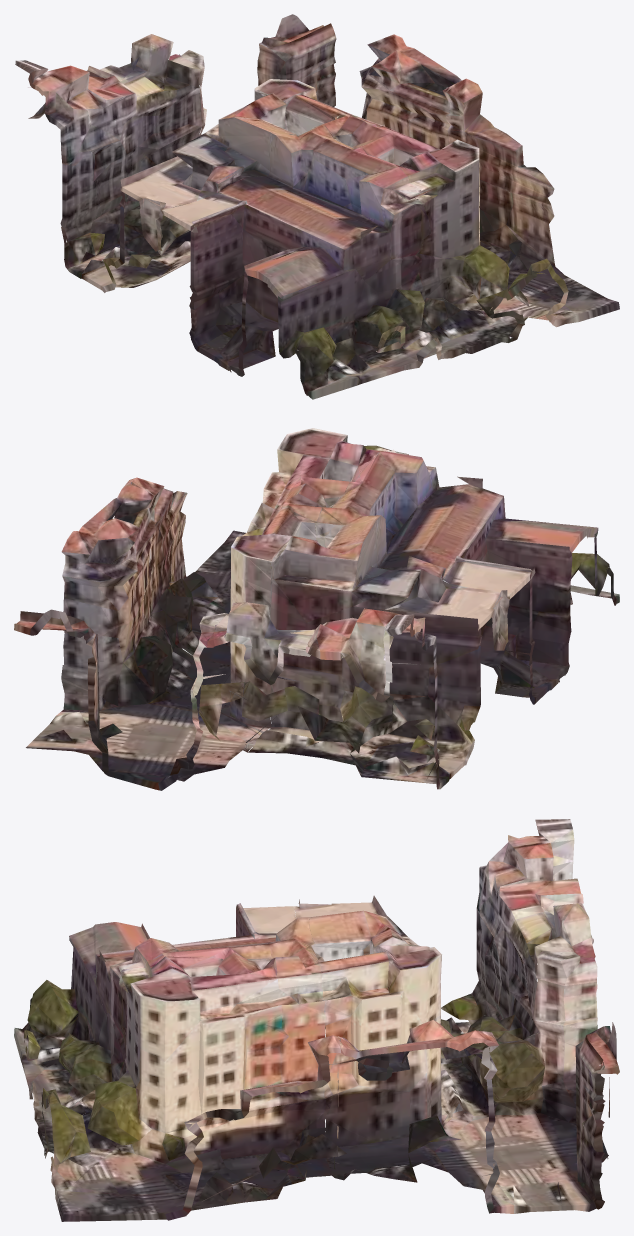
3 views of the same model, one above another, from view 1: azimuth 30°, elevation 25°; view 2: azimuth 150°, elevation 25°; view 3: azimuth 270°, elevation 25° (orthographic). The views are drawn at different scales.
Parts seen in each view (by area): view 1: Mesh_0; view 2: Mesh_0; view 3: Mesh_0.
Part boxes in pixels (left/top/right/bottom): Mesh_0: left=15, top=14, right=619, bottom=399; Mesh_0: left=14, top=428, right=619, bottom=790; Mesh_0: left=14, top=819, right=619, bottom=1221.
Bounding box in the file's own units: 66.83 × 31.97 × 82.44.
1 material, 1 textured.
